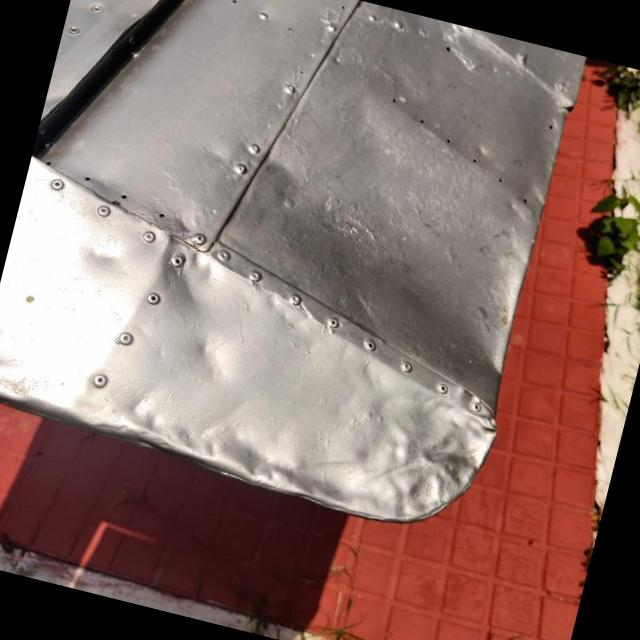Dent: (84, 354, 385, 519), (333, 389, 496, 522), (137, 229, 233, 328), (74, 209, 154, 304), (179, 327, 244, 398)
